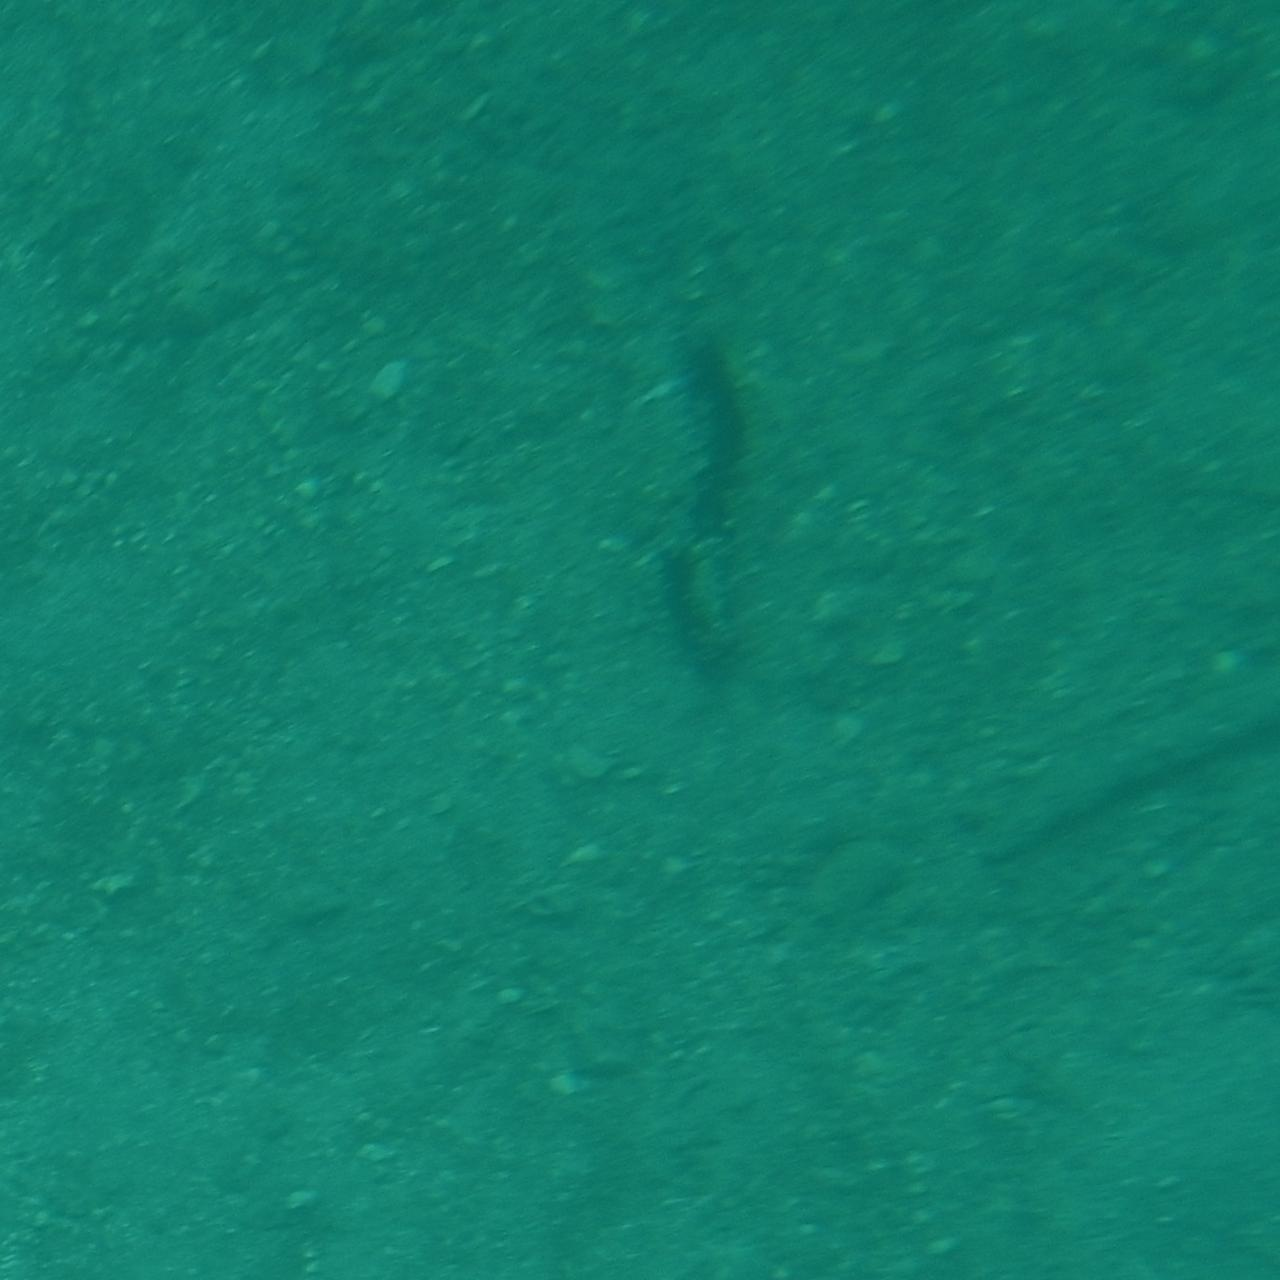Holothuria tubulosa: (987, 663, 1279, 862), (674, 314, 788, 722)
